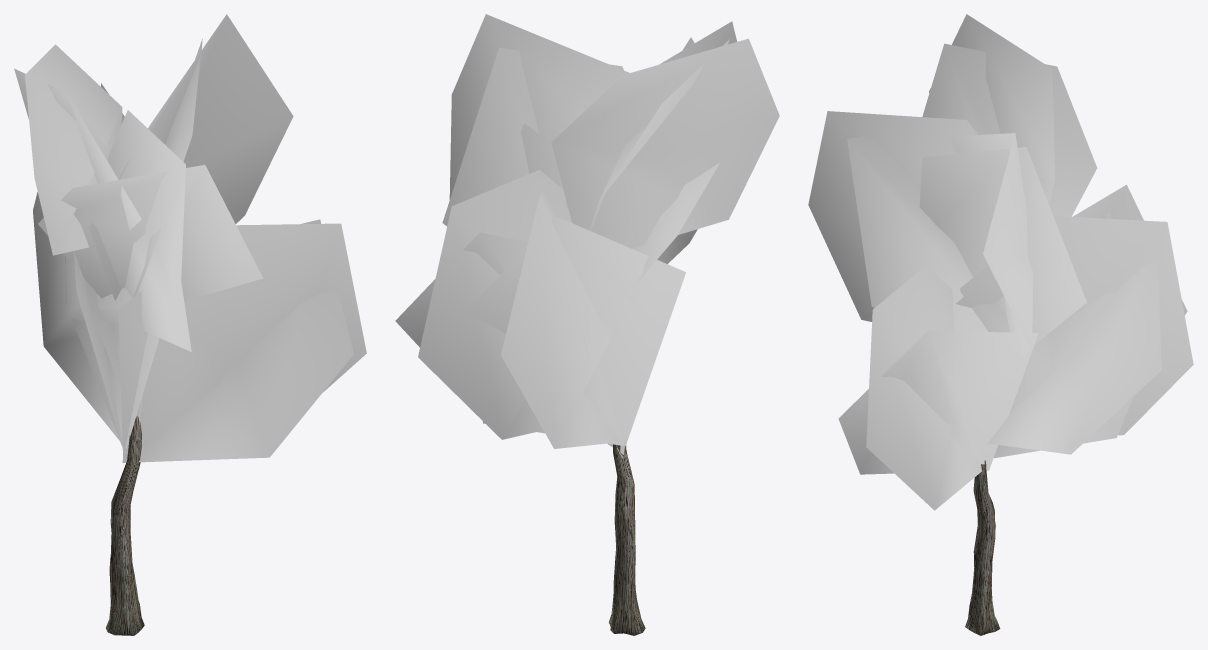
File: Broadleaf_Lower_02.fbx
3 renders of one model, left to right at view 1: azimuth 30°, elevation 25°; view 2: azimuth 150°, elevation 25°; view 3: azimuth 270°, elevation 25°, orthographic. The views are drawn at different scales.
Parts seen in each view (by area): view 1: Broadleaf_Lower_02; view 2: Broadleaf_Lower_02; view 3: Broadleaf_Lower_02.
Boxes of the visible parts, x1,y1,x2,y2 form: Broadleaf_Lower_02: (14, 14, 366, 635); Broadleaf_Lower_02: (395, 14, 779, 635); Broadleaf_Lower_02: (808, 14, 1193, 635).
Bounding box in the file's own units: 2.16 × 2.51 × 4.04.
